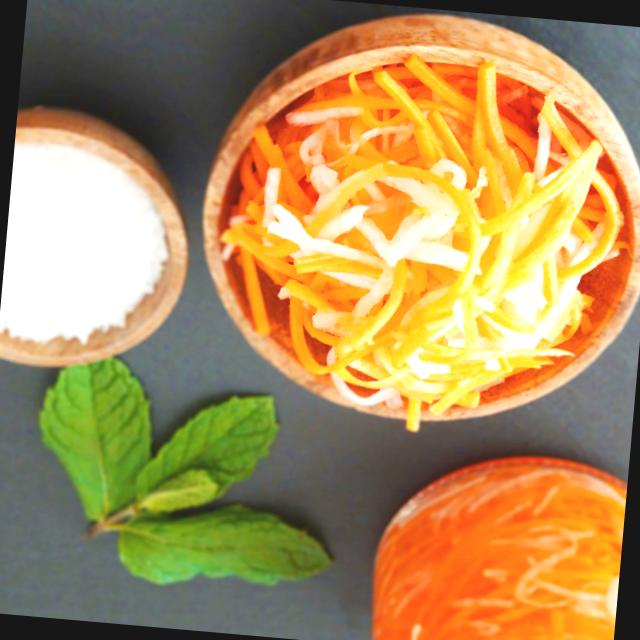do chua: (222, 53, 627, 429), (470, 252, 476, 261)
